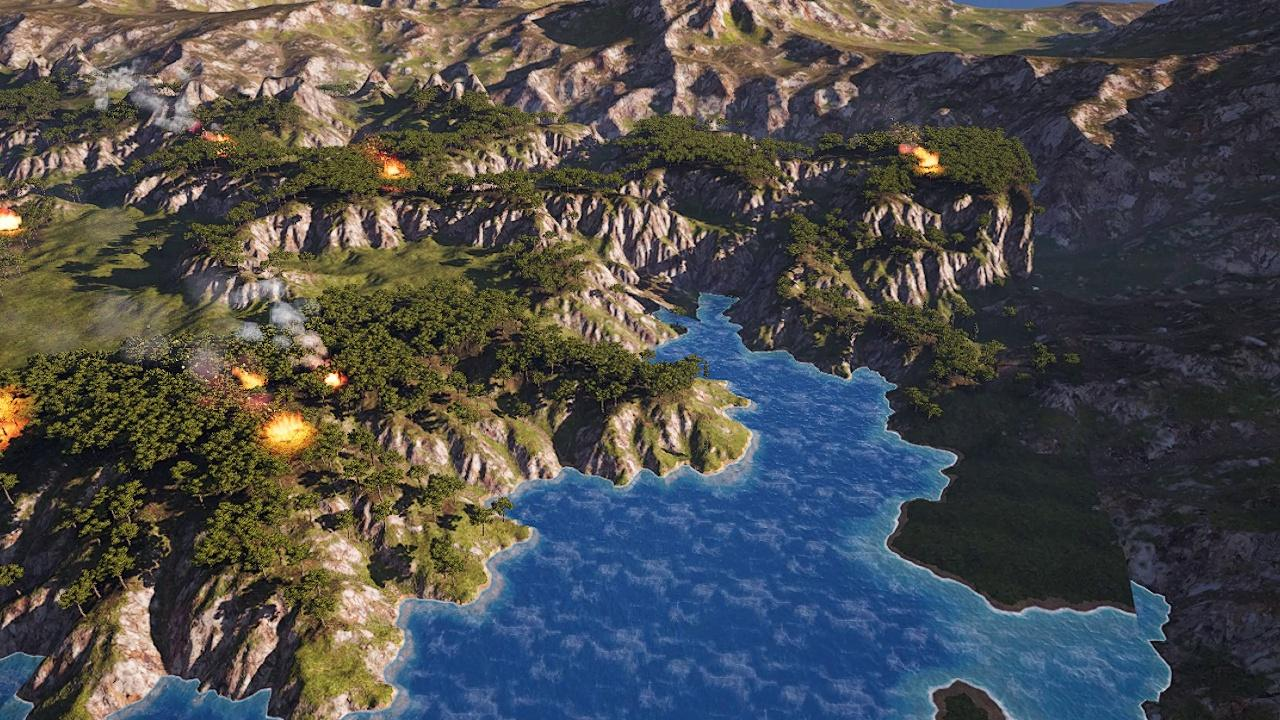fire: (0, 378, 30, 452), (266, 420, 312, 446), (380, 154, 410, 178), (200, 127, 230, 147), (0, 210, 21, 232), (325, 372, 347, 390)
smoke: (119, 271, 326, 379), (87, 65, 204, 136), (901, 142, 945, 175)
